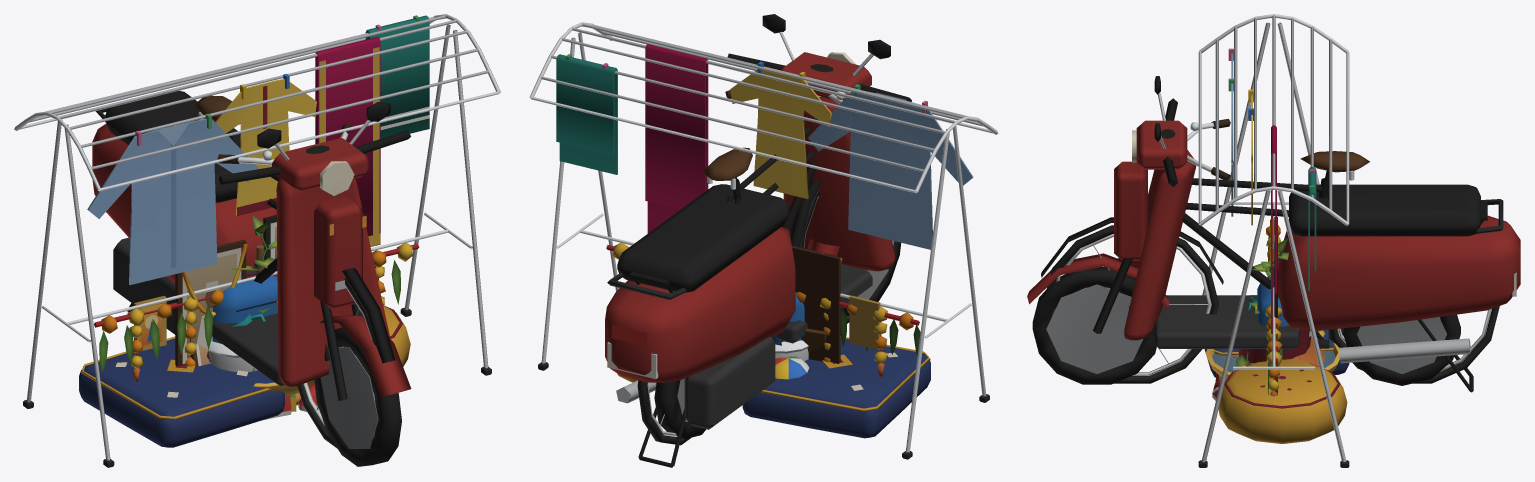
The model's file is life.glb.
3 renders of one model, left to right at view 1: azimuth 30°, elevation 25°; view 2: azimuth 150°, elevation 25°; view 3: azimuth 270°, elevation 25°, orthographic. The views are drawn at different scales.
Visible parts, largest first — view 1: scooter__life, clothesline__life, clothesline__steel, floor-cushions__life, wall-photos__life, toran__life, scooter__steel, cycle__life, school-bag__life, pressure-cooker__steel, money-plant__life, cycle__steel; view 2: scooter__life, clothesline__life, clothesline__steel, floor-cushions__life, wall-photos__life, cycle__life, toran__life, scooter__steel, toys__life, pressure-cooker__steel; view 3: scooter__life, clothesline__steel, scooter__steel, floor-cushions__life, cycle__life, clothesline__life, cycle__steel, toran__life, bucket__life, money-plant__life, school-bag__life, wall-photos__life.
Part boxes in pixels (<box>): scooter__life: <box>92,90,411,466</box>; clothesline__life: <box>23,15,491,467</box>; clothesline__steel: <box>14,14,500,460</box>; floor-cushions__life: <box>79,305,410,447</box>; wall-photos__life: <box>134,215,377,366</box>; toran__life: <box>94,243,419,381</box>; scooter__steel: <box>275,120,378,448</box>; cycle__life: <box>127,95,395,448</box>; school-bag__life: <box>212,272,277,343</box>; pressure-cooker__steel: <box>206,341,257,371</box>; money-plant__life: <box>231,215,276,371</box>; cycle__steel: <box>198,112,371,425</box>; scooter__life: <box>605,14,911,438</box>; clothesline__life: <box>538,44,989,459</box>; clothesline__steel: <box>529,22,998,452</box>; floor-cushions__life: <box>617,336,930,438</box>; wall-photos__life: <box>792,246,880,363</box>; cycle__life: <box>629,90,849,467</box>; toran__life: <box>606,242,920,376</box>; scooter__steel: <box>616,31,894,421</box>; toys__life: <box>775,356,809,379</box>; pressure-cooker__steel: <box>775,340,808,360</box>; scooter__life: <box>1027,76,1520,385</box>; clothesline__steel: <box>1198,14,1349,462</box>; scooter__steel: <box>1046,93,1470,373</box>; floor-cushions__life: <box>1204,295,1349,443</box>; cycle__life: <box>1041,119,1499,392</box>; clothesline__life: <box>1198,48,1349,467</box>; cycle__steel: <box>1056,122,1491,375</box>; toran__life: <box>1265,225,1281,396</box>; bucket__life: <box>1238,297,1311,363</box>; money-plant__life: <box>1236,238,1299,366</box>; school-bag__life: <box>1255,276,1288,360</box>; wall-photos__life: <box>1270,217,1277,394</box>.
Size of the model in its own units: 1.5 by 1.15 by 1.8.
